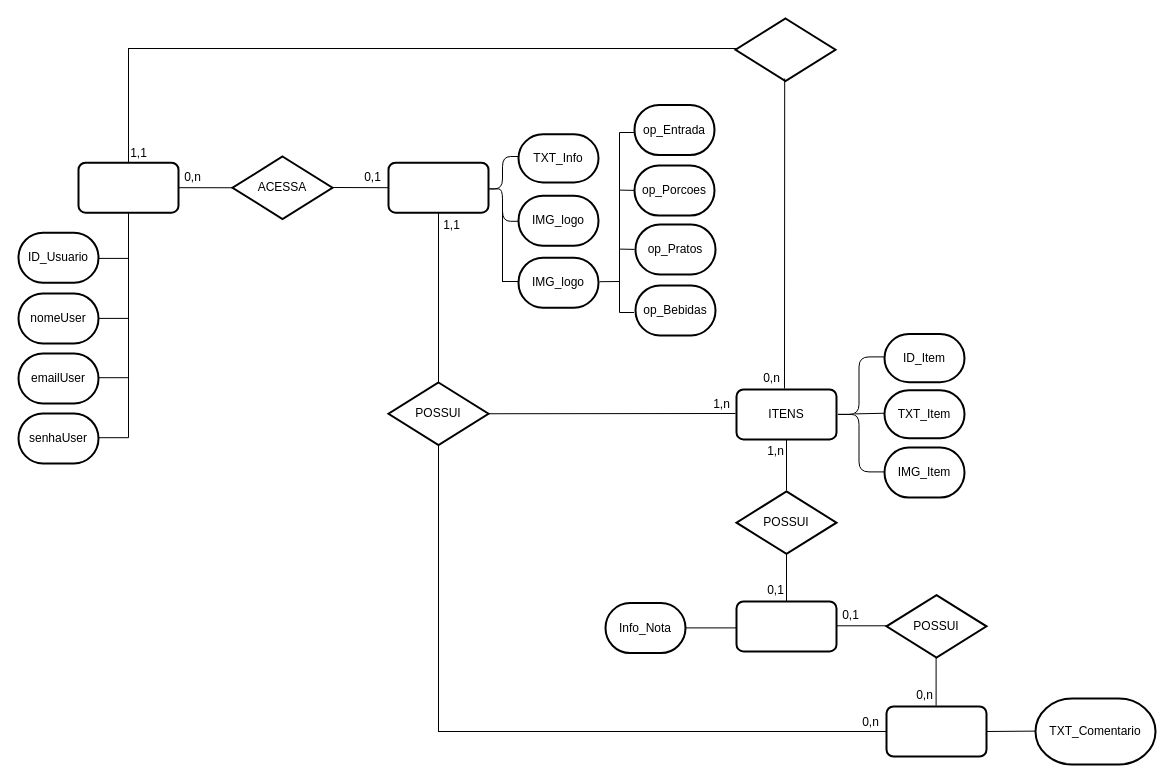
Image size: 1173x782. Some labels were removed from this diagram. Here are the shapes that lost their labels. From the top down, the centre of each, then its label:
pixel 785 49: CRIAR
pixel 128 187: USUARIO
pixel 438 187: CARDAPIO
pixel 786 626: AVALIACAO
pixel 936 731: SUGESTAO
